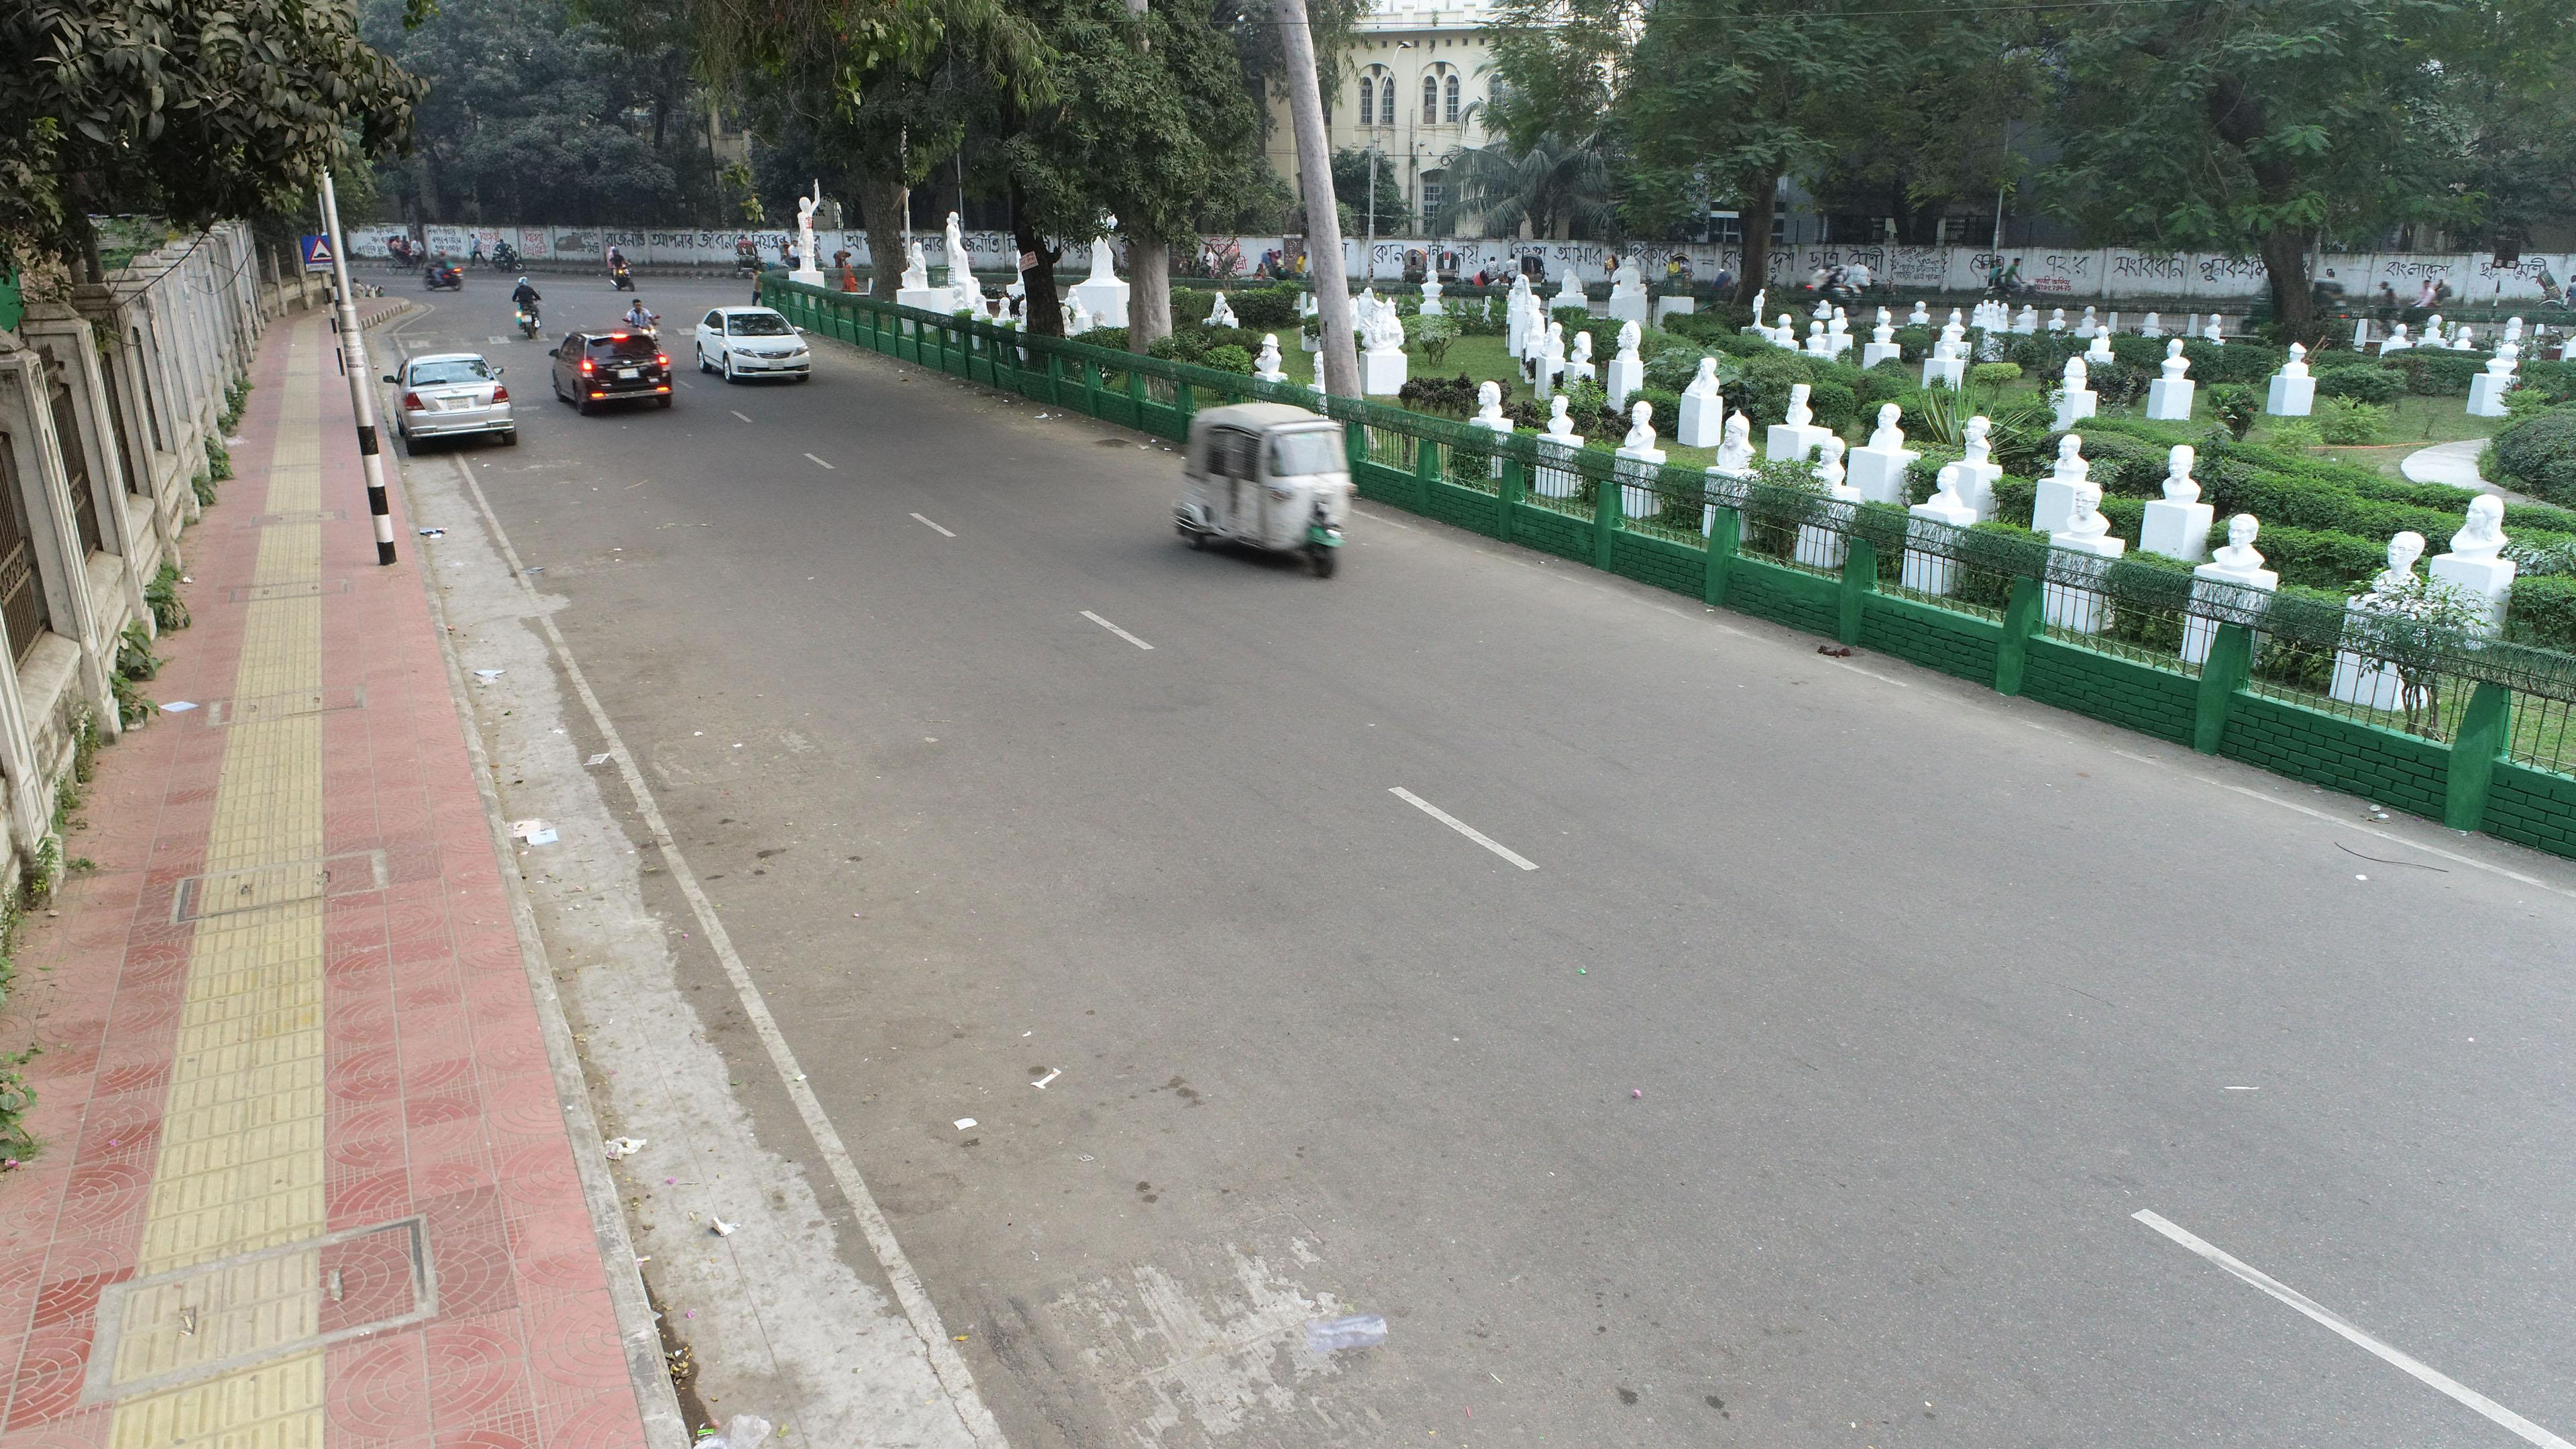car: (393, 350, 518, 441), (564, 329, 669, 405), (706, 310, 812, 379)
cng: (1189, 409, 1357, 571)
motor: (508, 274, 541, 338), (607, 246, 637, 292), (419, 262, 464, 290), (490, 241, 524, 272), (625, 304, 658, 329)
rickshaw: (386, 234, 426, 272), (736, 237, 757, 278)
